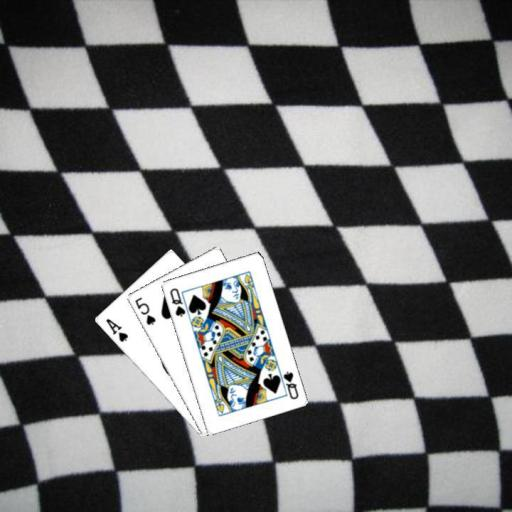5S: (132, 294, 157, 326)
AS: (103, 315, 130, 343)
QS: (167, 284, 187, 318), (280, 369, 300, 401)
